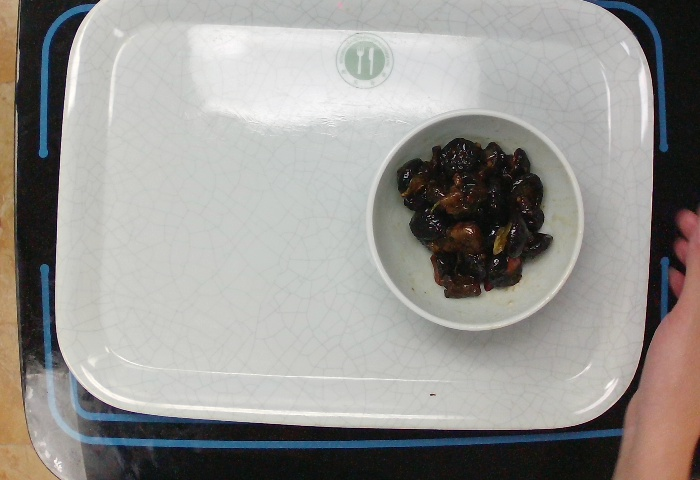JYsf-Fan_Wan: (360, 107, 592, 338)
